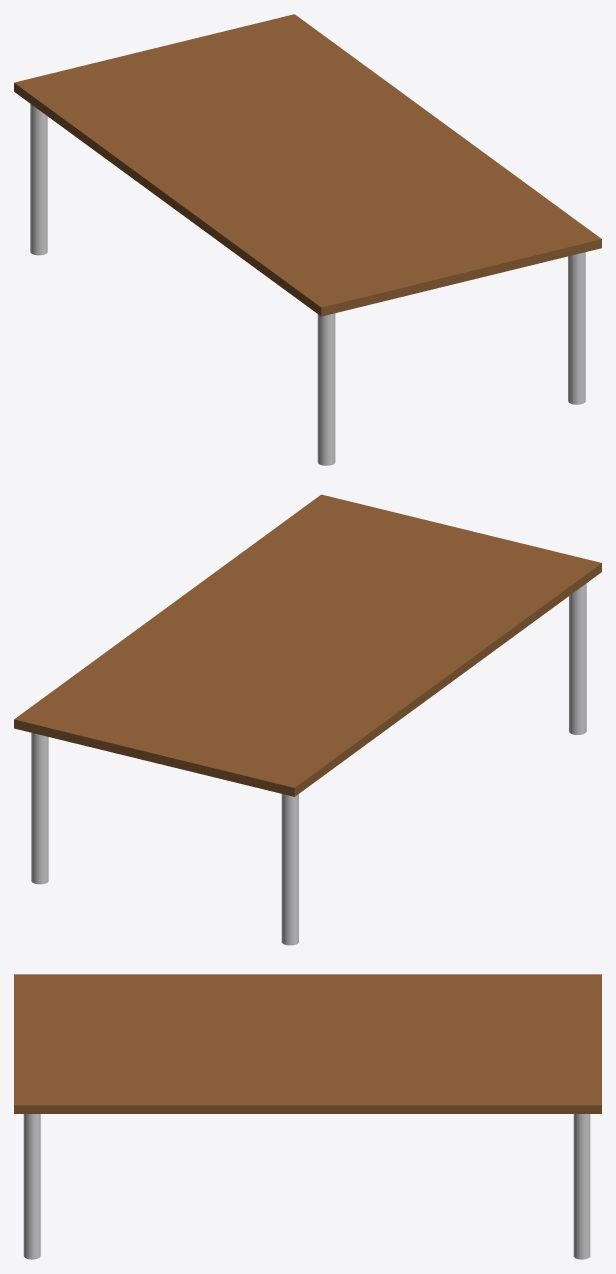
Rendered from table.fbx.
3 renders of one model, top to bottom at view 1: azimuth 30°, elevation 25°; view 2: azimuth 150°, elevation 25°; view 3: azimuth 270°, elevation 25°, orthographic. The views are drawn at different scales.
Parts seen in each view (by area): view 1: Cube; view 2: Cube; view 3: Cube.
Part boxes in pixels (x1,y1,x2,y2): Cube: (14, 14, 601, 465); Cube: (14, 494, 601, 945); Cube: (14, 974, 601, 1259).
Bounding box in the file's own units: 428 × 241 × 813.
